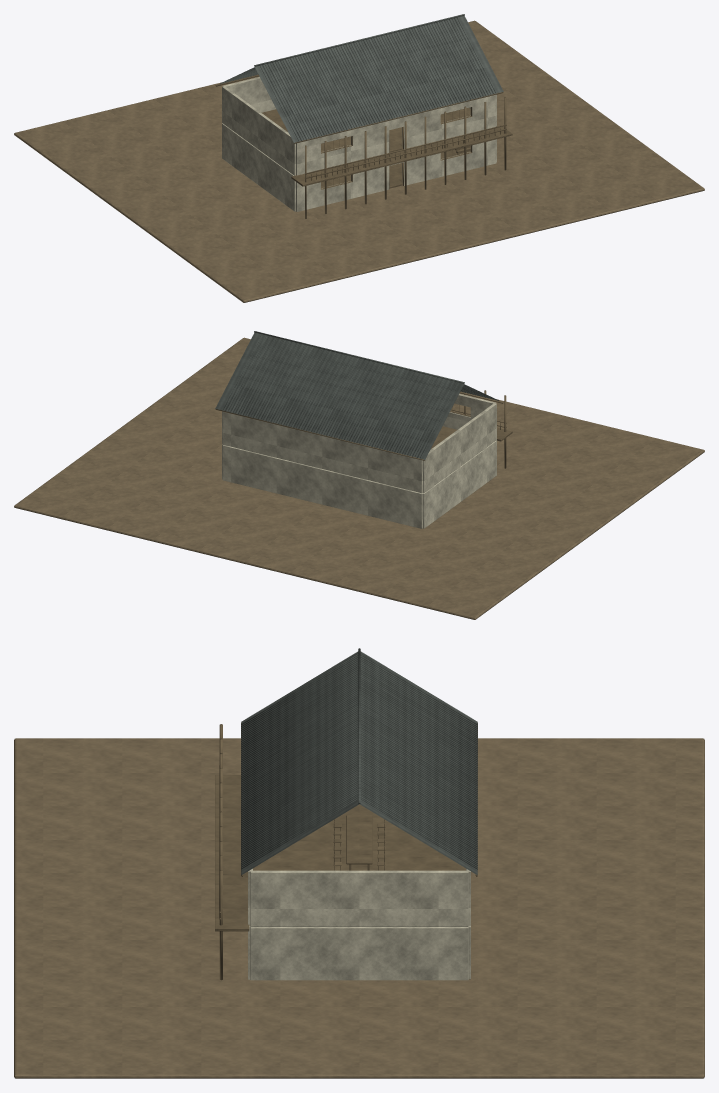
File: ch03_zunyi_meeting.glb
3 renders of one model, top to bottom at view 1: azimuth 30°, elevation 25°; view 2: azimuth 150°, elevation 25°; view 3: azimuth 270°, elevation 25°, orthographic. The views are drawn at different scales.
Parts seen in each view (by area): view 1: ground__courtyard, upper_floor_roof, upper_floor_walls, ground_floor_walls, upper_gallery, upper_floor_floor__floor, ground_floor_floor__floor; view 2: ground__courtyard, upper_floor_roof, upper_floor_walls, ground_floor_walls; view 3: ground__courtyard, upper_floor_roof, upper_floor_walls, ground_floor_walls, upper_floor_floor__floor, upper_gallery, meeting_table.
Part boxes in pixels (box(x1,y1,x2,y2)): ground__courtyard: box(14, 20, 704, 302); upper_floor_roof: box(215, 14, 503, 143); upper_floor_walls: box(222, 77, 496, 175); ground_floor_walls: box(222, 123, 496, 211); upper_gallery: box(291, 97, 512, 218); upper_floor_floor__floor: box(261, 108, 470, 152); ground_floor_floor__floor: box(321, 149, 457, 188); ground__courtyard: box(14, 337, 704, 619); upper_floor_roof: box(215, 331, 503, 460); upper_floor_walls: box(222, 393, 496, 493); ground_floor_walls: box(222, 440, 496, 528); ground__courtyard: box(14, 738, 704, 1078); upper_floor_roof: box(241, 648, 477, 876); upper_floor_walls: box(248, 868, 470, 926); ground_floor_walls: box(248, 925, 470, 980); upper_floor_floor__floor: box(253, 804, 465, 870); upper_gallery: box(215, 724, 249, 980); meeting_table: box(346, 815, 372, 870).
Size of the model in its own units: 44 by 11.25 by 38.
Materials: 4 (4 with a texture image).
